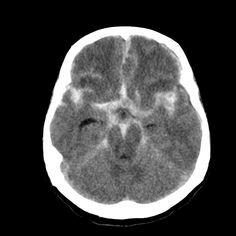Normal_Brain: (1, 1, 236, 236)
